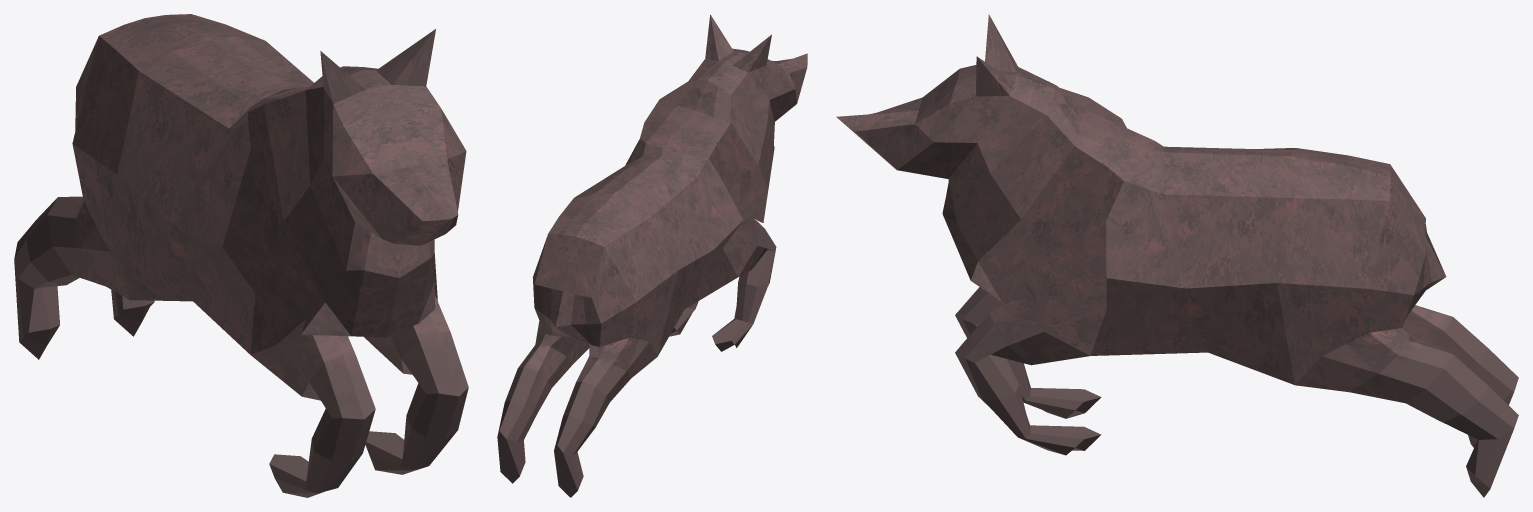
Rendered from piesblendtex_000013.obj.
The picture shows the model from 3 angles, left to right: view 1: azimuth 30°, elevation 25°; view 2: azimuth 150°, elevation 25°; view 3: azimuth 270°, elevation 25°; orthographic projection. The views are drawn at different scales.
Parts seen in each view (by area): view 1: Cube; view 2: Cube; view 3: Cube.
Boxes of the visible parts, x1,y1,x2,y2 form: Cube: [14, 14, 468, 497]; Cube: [497, 14, 807, 497]; Cube: [836, 14, 1518, 497].
Bounding box in the file's own units: 2.56 × 6.82 × 9.64.
